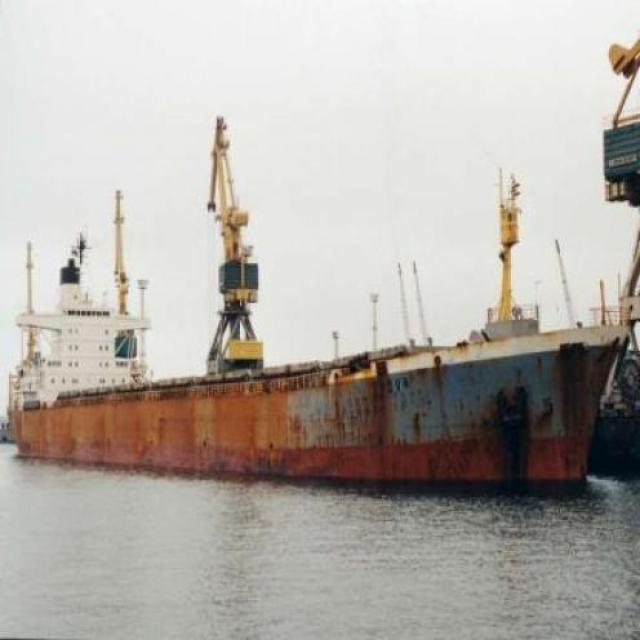boat: (13, 274, 612, 496)
